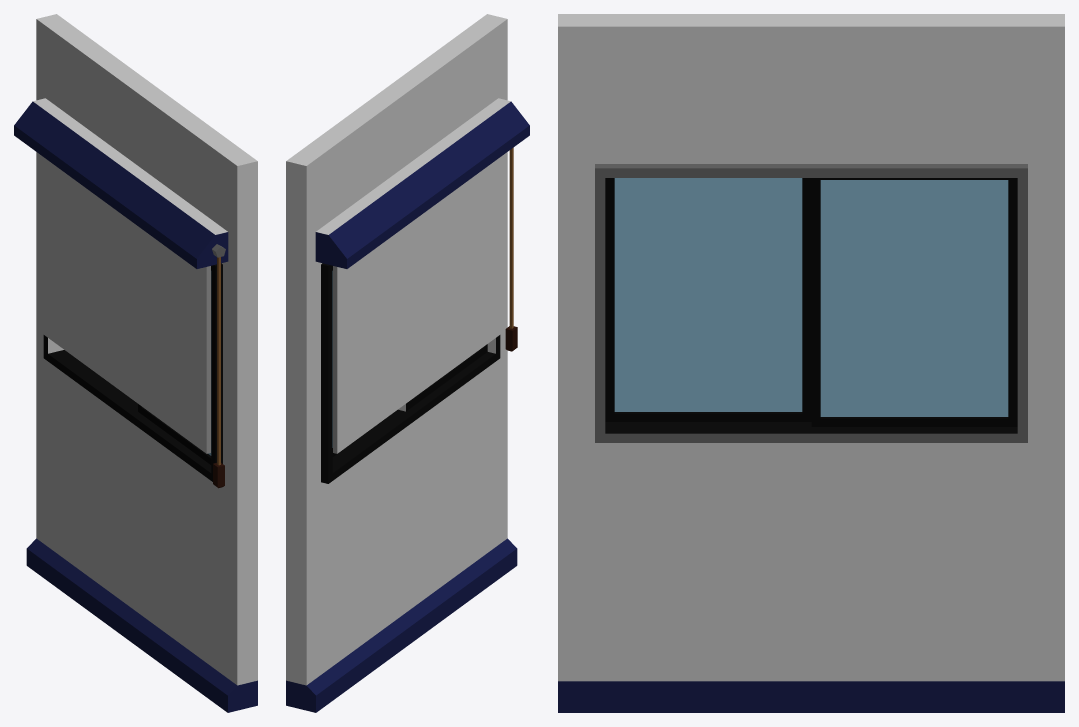
Rendered from WindowWall.001.fbx.
The picture shows the model from 3 angles, left to right: view 1: azimuth 30°, elevation 25°; view 2: azimuth 150°, elevation 25°; view 3: azimuth 270°, elevation 25°; orthographic projection. The views are drawn at different scales.
Visible parts, largest first — view 1: WindowWall.001; view 2: WindowWall.001; view 3: WindowWall.001.
Part boxes in pixels (<box>): WindowWall.001: <box>14,14,257,712</box>; WindowWall.001: <box>286,14,529,712</box>; WindowWall.001: <box>558,14,1064,712</box>.
Bounding box in the file's own units: 5.53 × 48.64 × 32.56.
